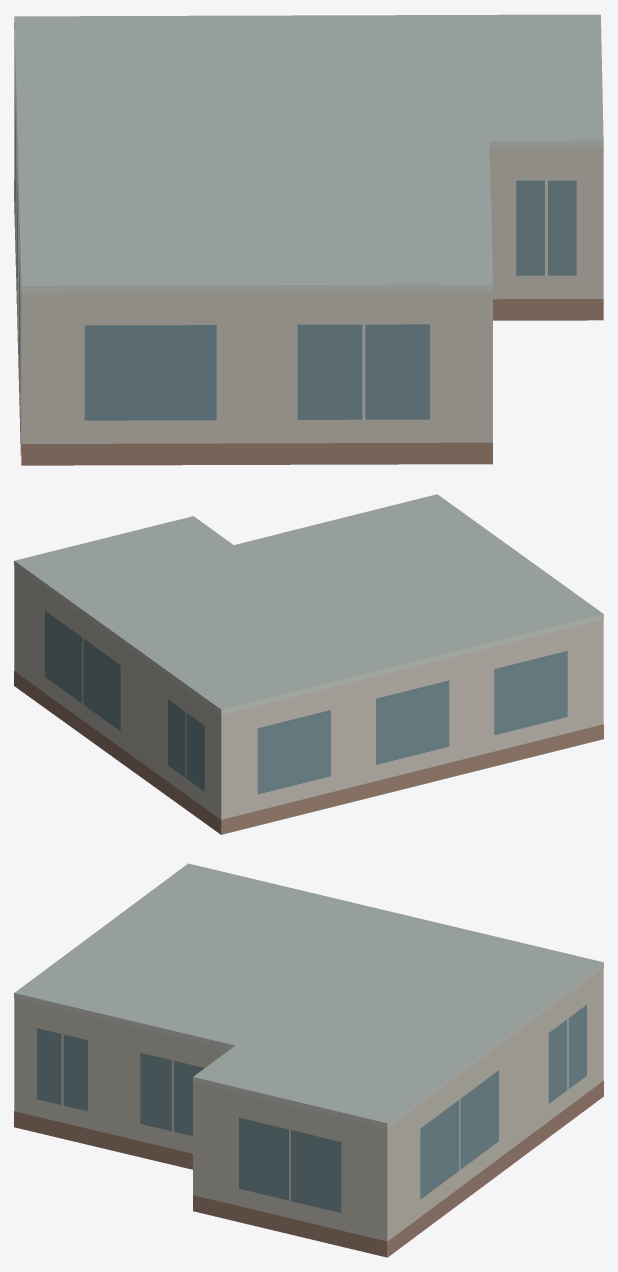
Rendered from survey-upis-32828090.glb.
3 renders of one model, top to bottom at view 1: azimuth 30°, elevation 25°; view 2: azimuth 150°, elevation 25°; view 3: azimuth 270°, elevation 25°, orthographic. The views are drawn at different scales.
Parts seen in each view (by area): view 1: survey-upis-32828090.tmp; view 2: survey-upis-32828090.tmp; view 3: survey-upis-32828090.tmp.
Part boxes in pixels (x1=…): survey-upis-32828090.tmp: x1=14, y1=14, x2=603, y2=465; survey-upis-32828090.tmp: x1=14, y1=494, x2=603, y2=834; survey-upis-32828090.tmp: x1=14, y1=863, x2=603, y2=1257.
Bounding box in the file's own units: 12.68 × 3.05 × 12.16.
